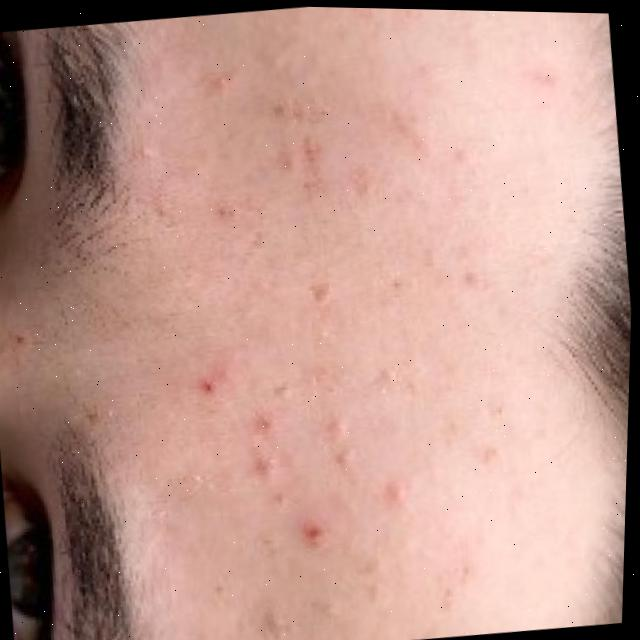Acne: (126, 32, 520, 640)
